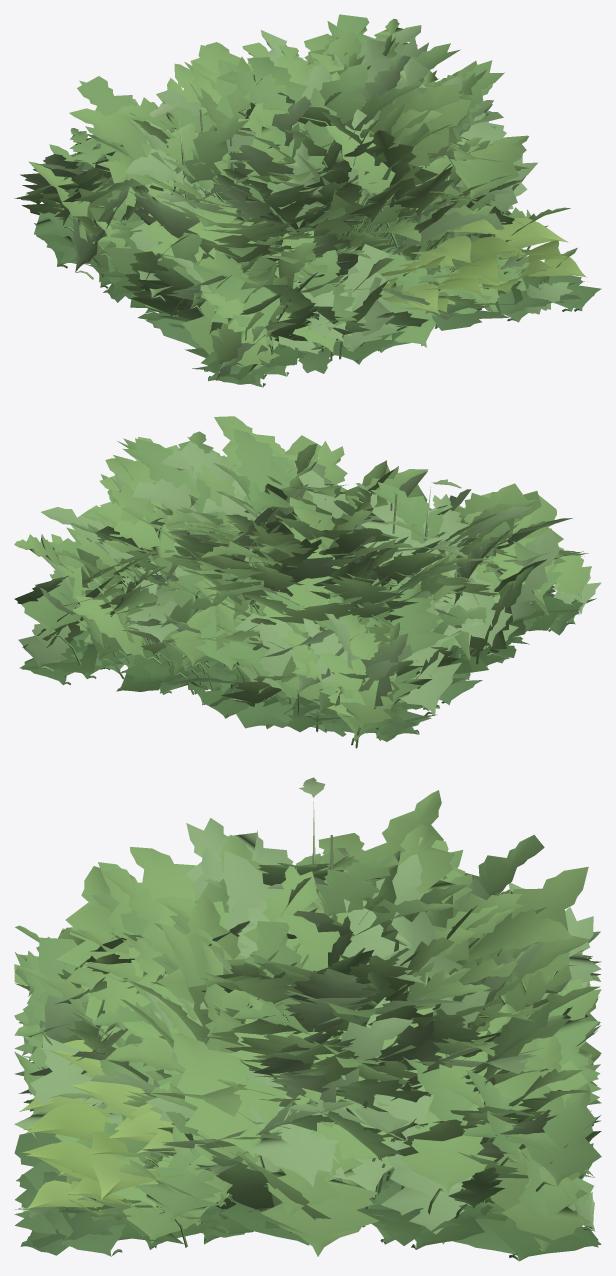
Rendered from flora_grass_1_leafy_ground_cover.glb.
3 views of the same model, one above another, from view 1: azimuth 30°, elevation 25°; view 2: azimuth 150°, elevation 25°; view 3: azimuth 270°, elevation 25° (orthographic). The views are drawn at different scales.
Parts seen in each view (by area): view 1: leaves, low leaves, heart leaves; view 2: leaves, low leaves; view 3: leaves, low leaves, heart leaves.
Boxes of the visible parts, <box> form: leaves: <box>14,14,577,380</box>; low leaves: <box>34,204,601,387</box>; heart leaves: <box>345,218,586,315</box>; leaves: <box>14,416,601,748</box>; low leaves: <box>19,596,596,741</box>; leaves: <box>14,790,601,1256</box>; low leaves: <box>14,1021,601,1261</box>; heart leaves: <box>19,1039,190,1211</box>.
Size of the model in its own units: 2 by 1 by 2.
